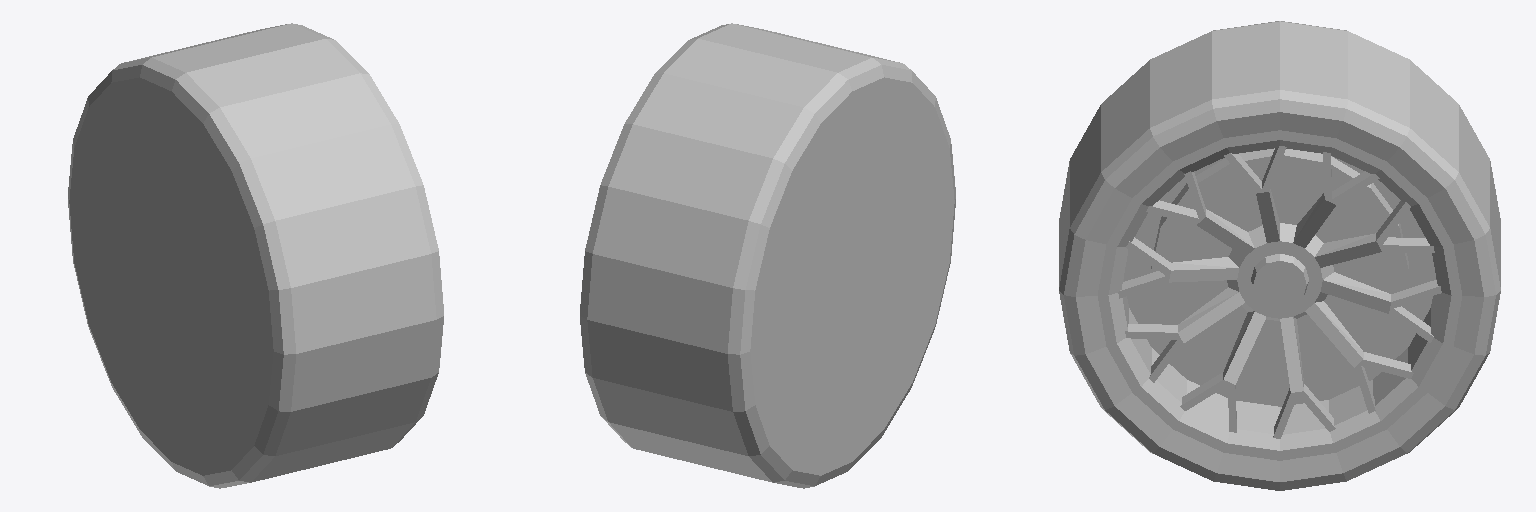
File: Wheel.obj
3 renders of one model, left to right at view 1: azimuth 30°, elevation 25°; view 2: azimuth 150°, elevation 25°; view 3: azimuth 270°, elevation 25°, orthographic.
Visible parts, largest first — view 1: Wheel; view 2: Wheel; view 3: Wheel.
Boxes of the visible parts, <box> form: Wheel: <box>68,23,443,488</box>; Wheel: <box>580,23,955,488</box>; Wheel: <box>1059,21,1500,490</box>.
Size of the model in its own units: 30.5 by 69.12 by 69.12.